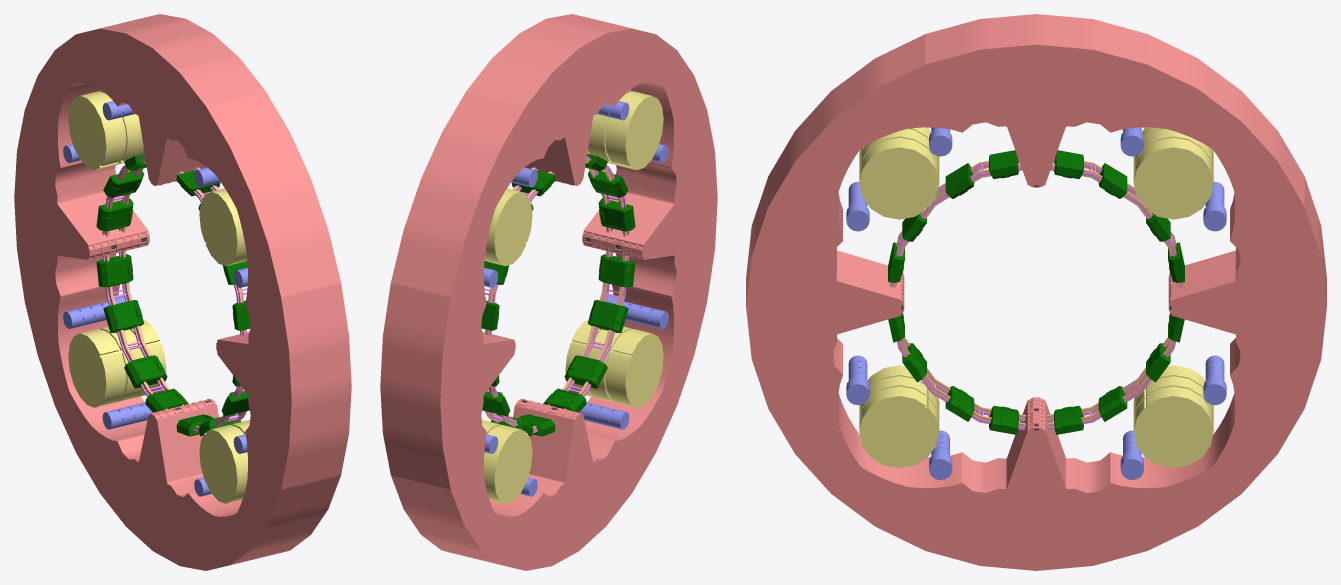
Rendered from TubeA_v6_1.FBX.
3 views of the same model, side by side, from view 1: azimuth 30°, elevation 25°; view 2: azimuth 150°, elevation 25°; view 3: azimuth 270°, elevation 25° (orthographic). The views are drawn at different scales.
Visible parts, largest first — view 1: TubeAPartsA_v6_2_001, TubeAPartsC_v6_1_001, TubeAPartsD_v6_1_001, TubeAPartsB_v6_1_001, TubeAPartsF_v6_1_001, TubeAPartsE_v6_1_001; view 2: TubeAPartsA_v6_2_001, TubeAPartsC_v6_1_001, TubeAPartsD_v6_1_001, TubeAPartsB_v6_1_001, TubeAPartsF_v6_1_001, TubeAPartsE_v6_1_001; view 3: TubeAPartsA_v6_2_001, TubeAPartsC_v6_1_001, TubeAPartsD_v6_1_001, TubeAPartsB_v6_1_001, TubeAPartsF_v6_1_001, TubeAPartsE_v6_1_001.
Boxes of the visible parts, <box> form: TubeAPartsA_v6_2_001: <box>14,14,351,570</box>; TubeAPartsC_v6_1_001: <box>68,90,249,503</box>; TubeAPartsD_v6_1_001: <box>96,154,250,436</box>; TubeAPartsB_v6_1_001: <box>63,101,247,496</box>; TubeAPartsF_v6_1_001: <box>104,156,246,430</box>; TubeAPartsE_v6_1_001: <box>102,157,247,433</box>; TubeAPartsA_v6_2_001: <box>380,14,717,570</box>; TubeAPartsC_v6_1_001: <box>482,90,663,503</box>; TubeAPartsD_v6_1_001: <box>481,154,635,436</box>; TubeAPartsB_v6_1_001: <box>484,101,668,496</box>; TubeAPartsF_v6_1_001: <box>485,156,627,430</box>; TubeAPartsE_v6_1_001: <box>484,157,629,433</box>; TubeAPartsA_v6_2_001: <box>746,14,1326,570</box>; TubeAPartsC_v6_1_001: <box>859,127,1213,468</box>; TubeAPartsD_v6_1_001: <box>888,150,1184,434</box>; TubeAPartsB_v6_1_001: <box>846,127,1226,479</box>; TubeAPartsF_v6_1_001: <box>889,161,1183,430</box>; TubeAPartsE_v6_1_001: <box>890,158,1182,429</box>.
Size of the model in its own units: 197 by 1575 by 1575.
